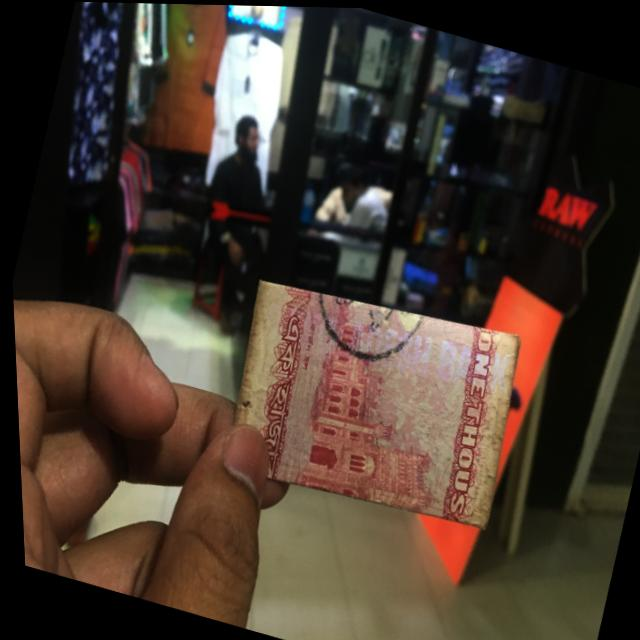Taka: (209, 274, 528, 530)
